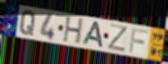4: (39, 11, 56, 42)
A: (81, 20, 104, 49)
F: (128, 27, 150, 54)
H: (62, 16, 86, 46)
Q: (18, 9, 37, 37)
Z: (106, 23, 129, 53)
